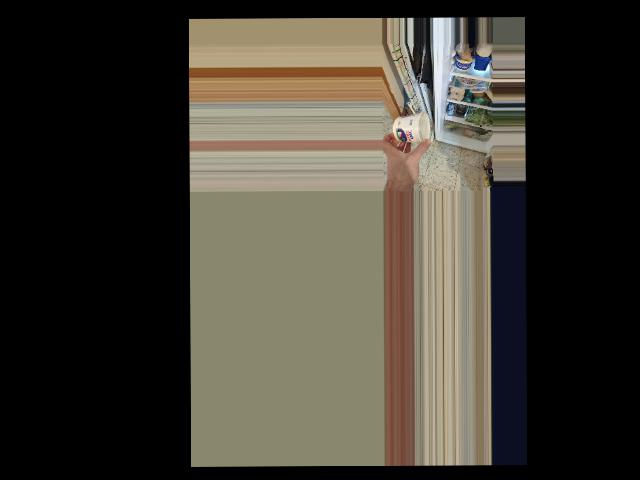cotage: (392, 109, 433, 148)
